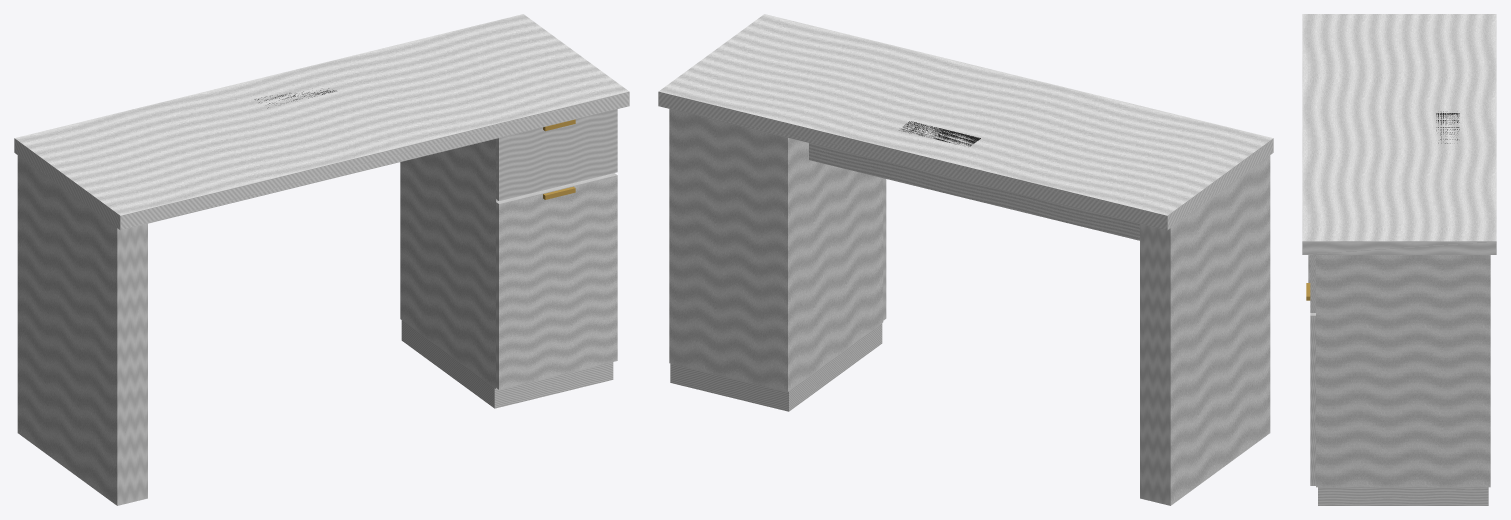
3 renders of one model, left to right at view 1: azimuth 30°, elevation 25°; view 2: azimuth 150°, elevation 25°; view 3: azimuth 270°, elevation 25°, orthographic. The views are drawn at different scales.
Visible parts, largest first — view 1: 1 desktop, 3 left_leg_panel, 8 cabinet_door, 5 cabinet_body, 7 drawer_front, 6 cabinet_plinth; view 2: 1 desktop, 5 cabinet_body, 3 left_leg_panel, 4 apron_panel, 6 cabinet_plinth, 2 power_outlet; view 3: 1 desktop, 5 cabinet_body, 6 cabinet_plinth, 8 cabinet_door, 7 drawer_front, 2 power_outlet.
Boxes of the visible parts, x1,y1,x2,y2 form: 1 desktop: (14, 14, 629, 230); 3 left_leg_panel: (17, 155, 147, 505); 8 cabinet_door: (496, 173, 617, 389); 5 cabinet_body: (400, 139, 498, 388); 7 drawer_front: (496, 109, 617, 200); 6 cabinet_plinth: (401, 320, 613, 408); 1 desktop: (658, 14, 1273, 230); 5 cabinet_body: (669, 109, 883, 391); 3 left_leg_panel: (1140, 155, 1270, 505); 4 apron_panel: (809, 143, 1139, 240); 6 cabinet_plinth: (670, 323, 882, 411); 2 power_outlet: (899, 121, 980, 146); 1 desktop: (1302, 14, 1496, 254); 5 cabinet_body: (1316, 255, 1490, 487); 6 cabinet_plinth: (1318, 487, 1488, 505); 8 cabinet_door: (1310, 313, 1315, 485); 7 drawer_front: (1310, 255, 1315, 312); 2 power_outlet: (1436, 111, 1459, 143).
Bounding box in the file's own units: 1.55 × 0.8509 × 0.5588.
4 materials, 2 textured.
